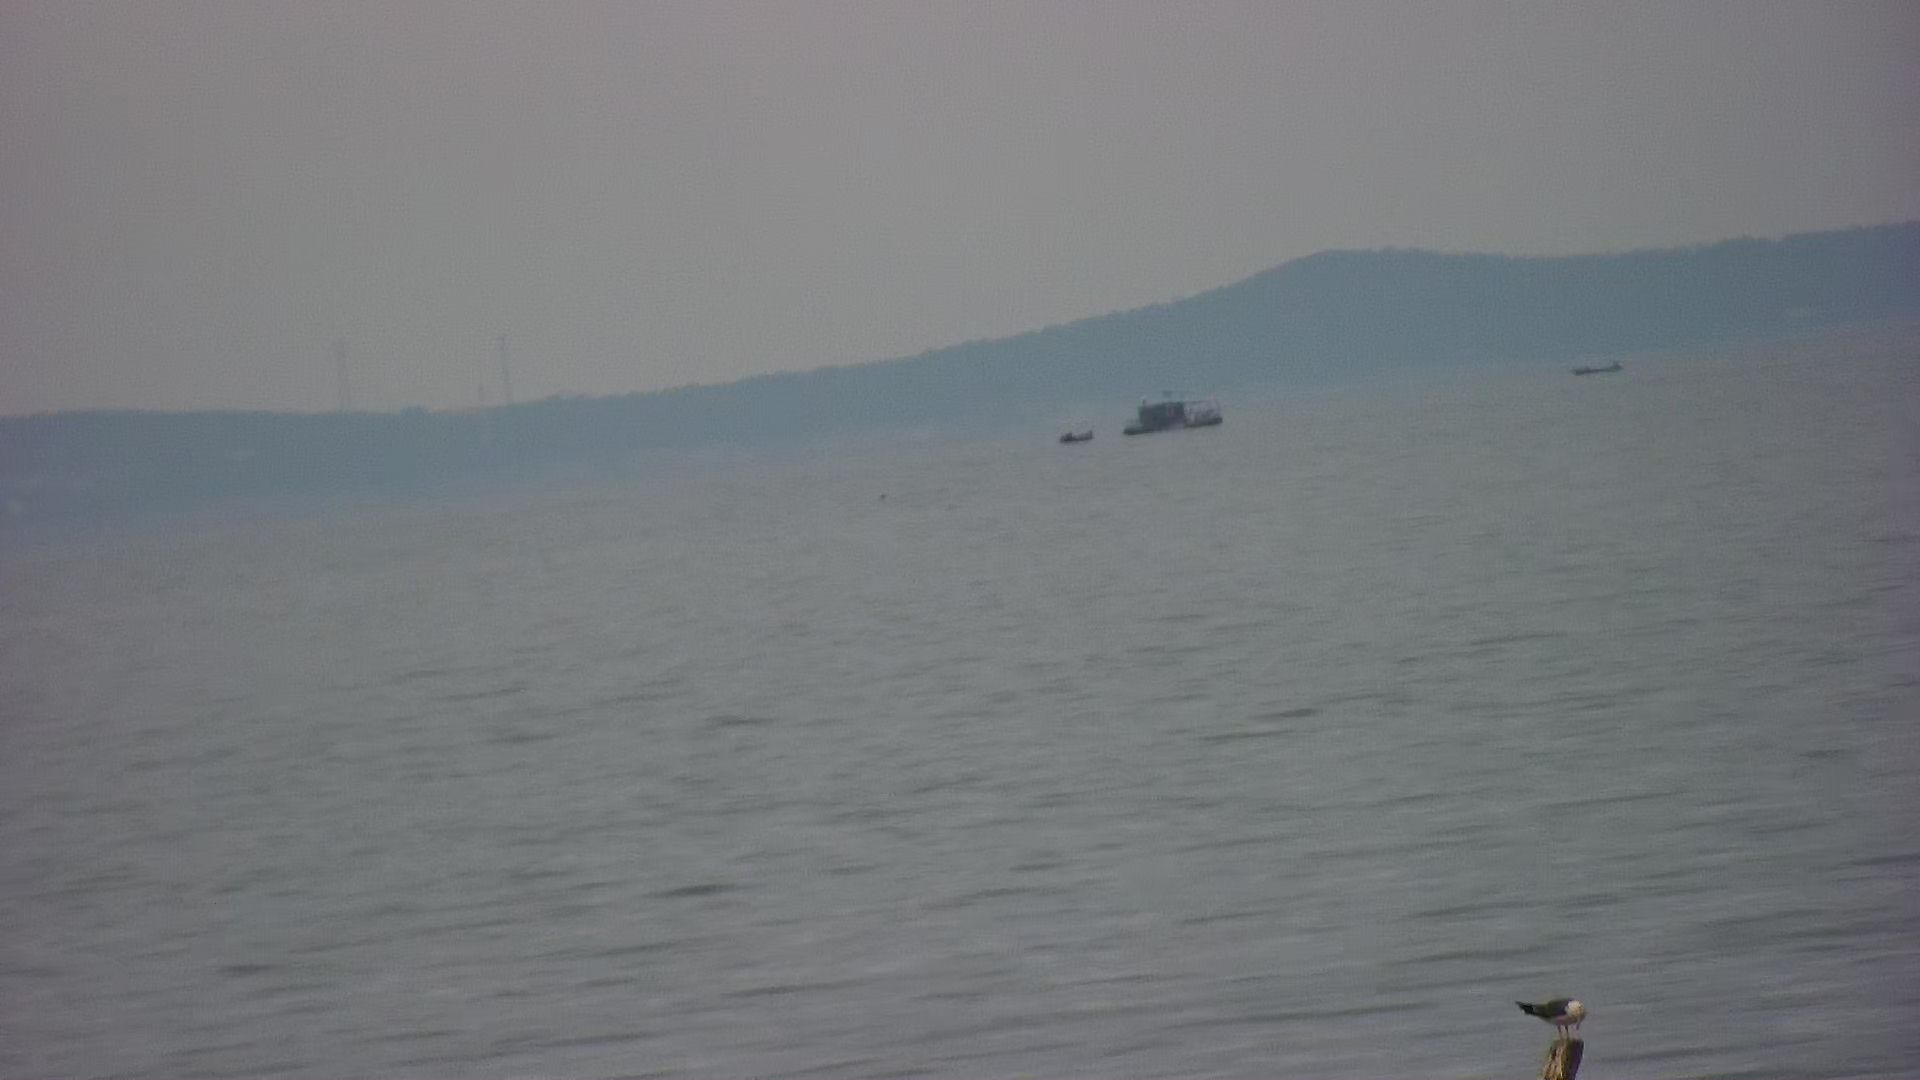platform: (1124, 392, 1233, 440)
